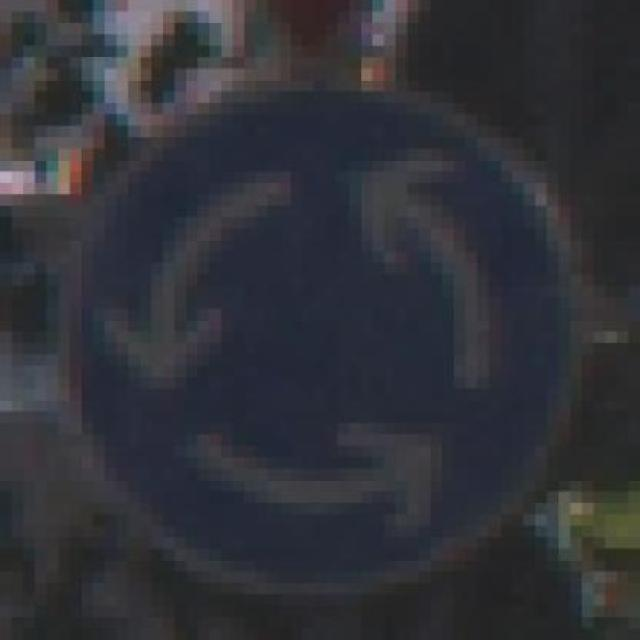Round-About: (58, 79, 605, 595)
